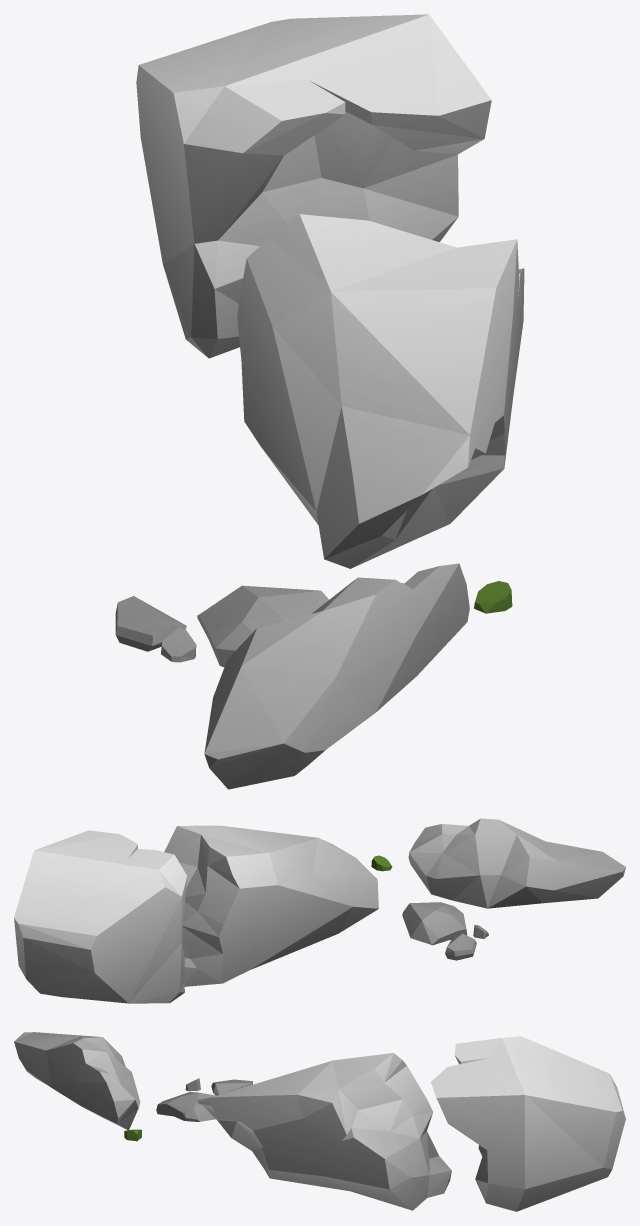
The model's file is CrystalBroke_A.FBX.
3 renders of one model, top to bottom at view 1: azimuth 30°, elevation 25°; view 2: azimuth 150°, elevation 25°; view 3: azimuth 270°, elevation 25°, orthographic. The views are drawn at different scales.
Parts seen in each view (by area): view 1: CrystalBroke_A-02, CrystalBroke_A-01, CrystalBroke_A-03, CrystalBroke_A-05, CrystalBroke_A-06; view 2: CrystalBroke_A-01, CrystalBroke_A-02, CrystalBroke_A-03, CrystalBroke_A-05, CrystalBroke_A-06; view 3: CrystalBroke_A-02, CrystalBroke_A-01, CrystalBroke_A-03, CrystalBroke_A-05, CrystalBroke_A-06.
Part boxes in pixels (left/top/right/bottom): CrystalBroke_A-02: left=237, top=214, right=524, bottom=568; CrystalBroke_A-01: left=136, top=14, right=491, bottom=358; CrystalBroke_A-03: left=204, top=563, right=469, bottom=789; CrystalBroke_A-05: left=197, top=585, right=328, bottom=667; CrystalBroke_A-06: left=115, top=596, right=186, bottom=651; CrystalBroke_A-01: left=14, top=830, right=187, bottom=1003; CrystalBroke_A-02: left=164, top=825, right=378, bottom=986; CrystalBroke_A-03: left=408, top=818, right=625, bottom=908; CrystalBroke_A-05: left=402, top=902, right=467, bottom=945; CrystalBroke_A-06: left=445, top=933, right=476, bottom=960; CrystalBroke_A-02: left=197, top=1053, right=451, bottom=1210; CrystalBroke_A-01: left=431, top=1036, right=625, bottom=1211; CrystalBroke_A-03: left=14, top=1032, right=140, bottom=1130; CrystalBroke_A-05: left=156, top=1092, right=215, bottom=1121; CrystalBroke_A-06: left=211, top=1079, right=252, bottom=1095.
Size of the model in its own units: 238 by 91.1 by 348.
Materials: 2 (2 with a texture image).
